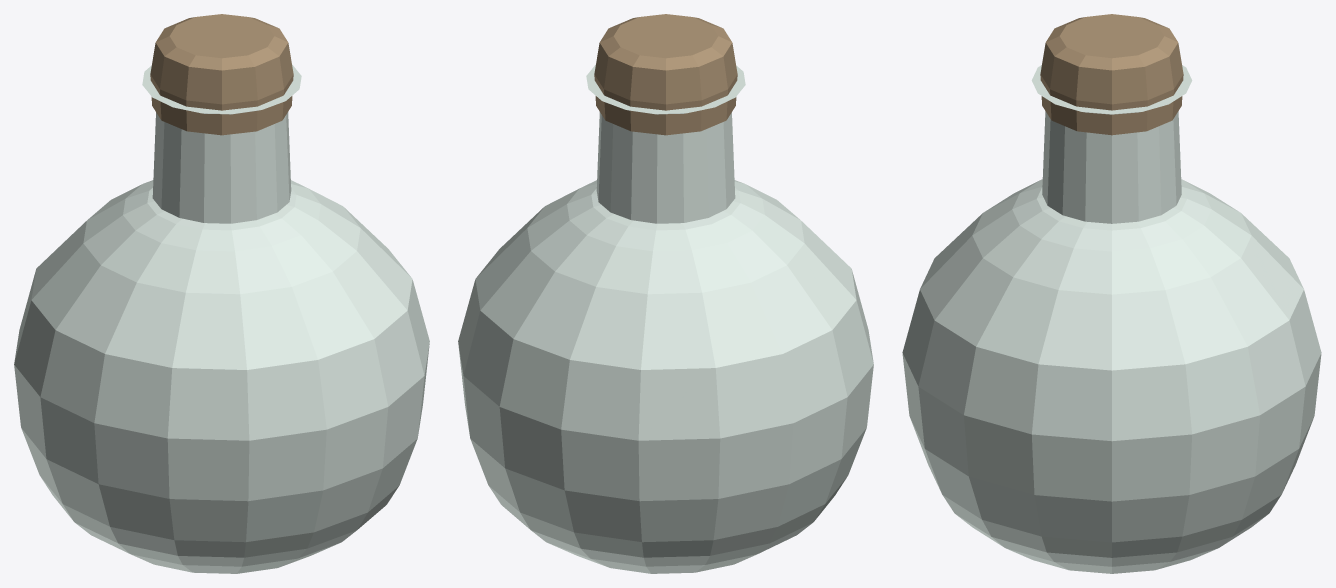
The model's file is potion_mana.glb.
3 renders of one model, left to right at view 1: azimuth 30°, elevation 25°; view 2: azimuth 150°, elevation 25°; view 3: azimuth 270°, elevation 25°, orthographic.
Visible parts, largest first — view 1: PotionBottle_Body.001, PotionBottle_Cork.001, PotionBottle_Neck.001; view 2: PotionBottle_Body.001, PotionBottle_Cork.001, PotionBottle_Neck.001; view 3: PotionBottle_Body.001, PotionBottle_Cork.001, PotionBottle_Neck.001.
Boxes of the visible parts, x1=… form: PotionBottle_Body.001: x1=14, y1=180, x2=429, y2=573; PotionBottle_Cork.001: x1=150, y1=14, x2=293, y2=135; PotionBottle_Neck.001: x1=142, y1=64, x2=301, y2=223; PotionBottle_Body.001: x1=458, y1=180, x2=873, y2=573; PotionBottle_Cork.001: x1=594, y1=14, x2=737, y2=135; PotionBottle_Neck.001: x1=586, y1=64, x2=745, y2=223; PotionBottle_Body.001: x1=902, y1=179, x2=1321, y2=573; PotionBottle_Cork.001: x1=1040, y1=14, x2=1183, y2=135; PotionBottle_Neck.001: x1=1031, y1=65, x2=1192, y2=223.
Size of the model in its own units: 0.15 by 0.2 by 0.15.
